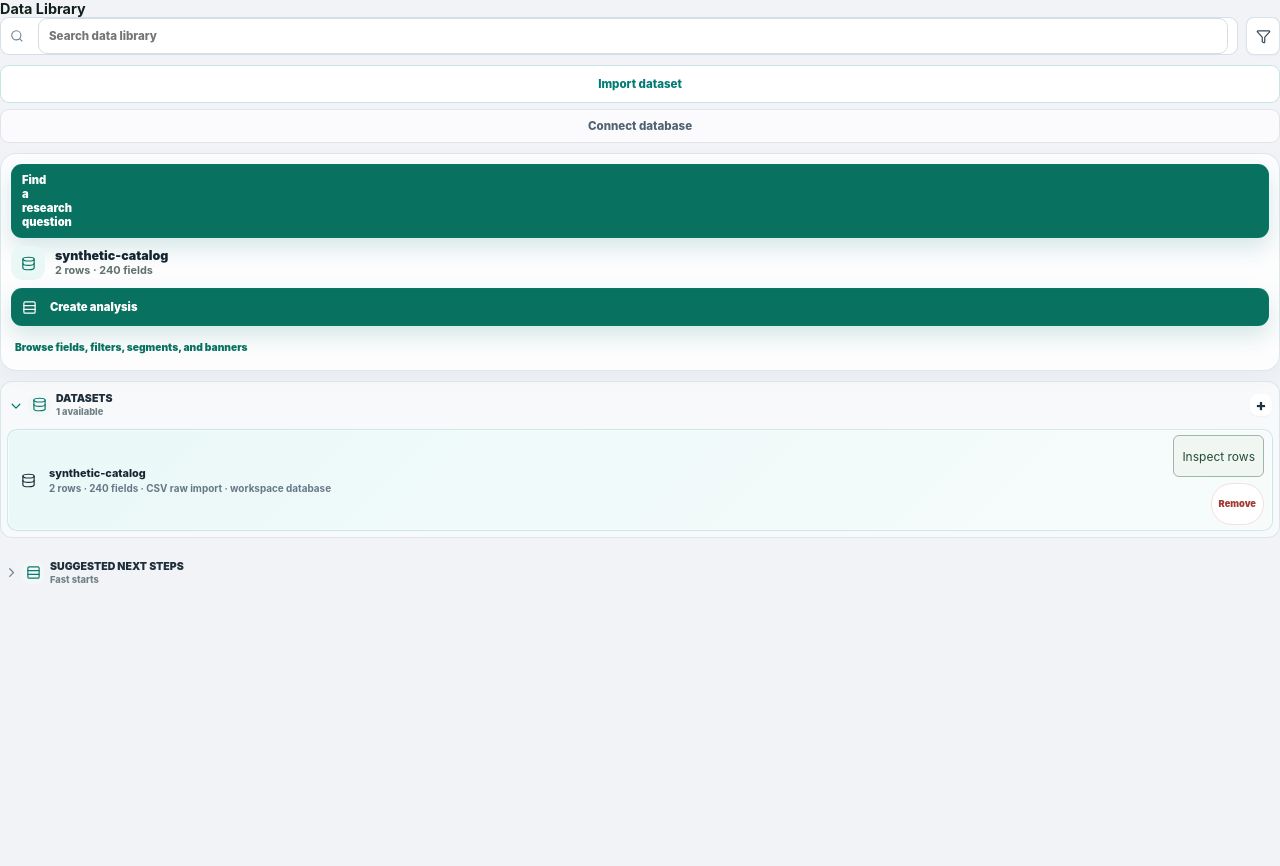
Test: quarantines old selected details during fresh retry, failure and replacement without the old ID
Later steps or results of the test are not shown.
Click the button "Create analysis" at (94, 307), box [11,288,1269,326]
Click the button "Browse fields, filters, segments, and banners" at (131, 347), box [11,334,1269,360]
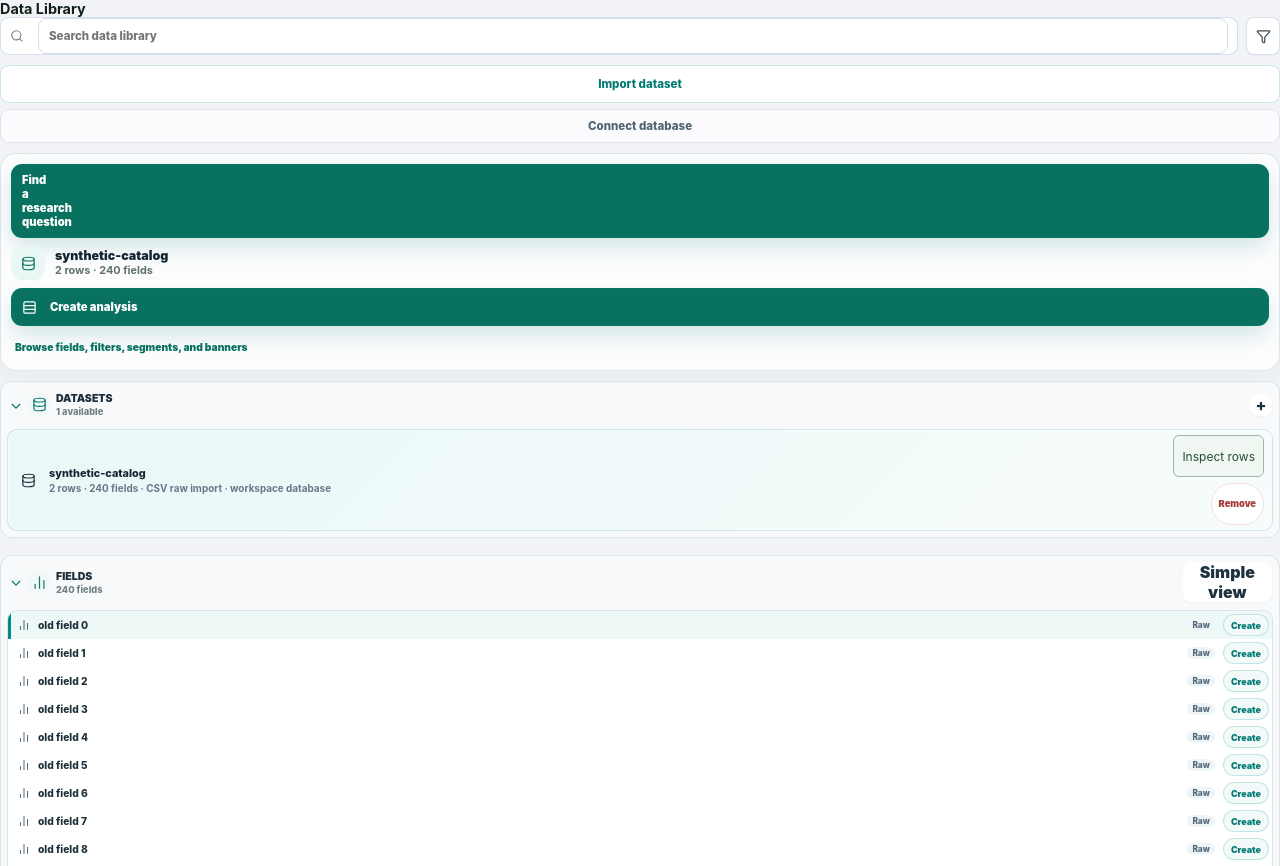
Expected: the button "old field 5 Raw" is shown
Click the button "old field 5 Raw" at (63, 765), box [11,753,1219,777]
(page scrolled)
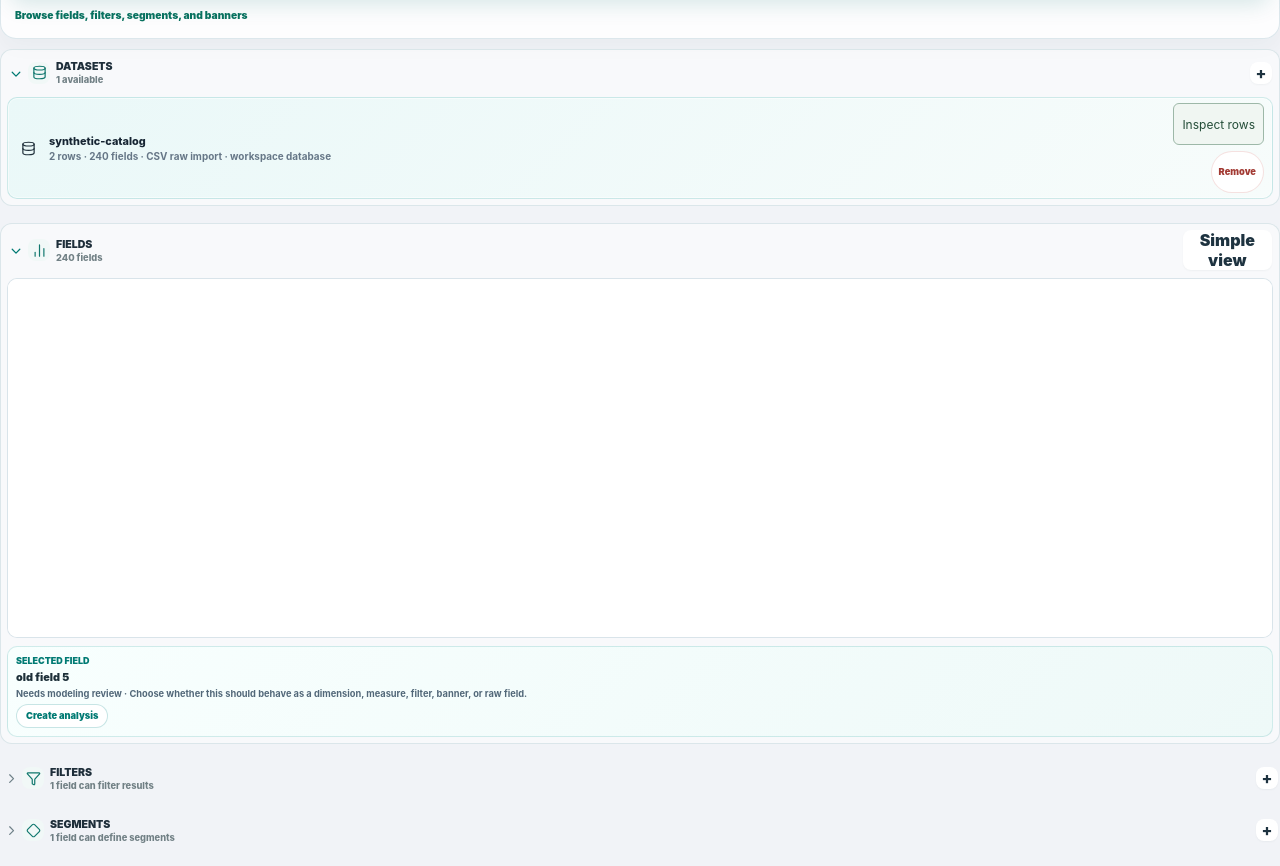
Expected: the element that starts with "Selected field" shows "old field 5", [16,670,69,684]
